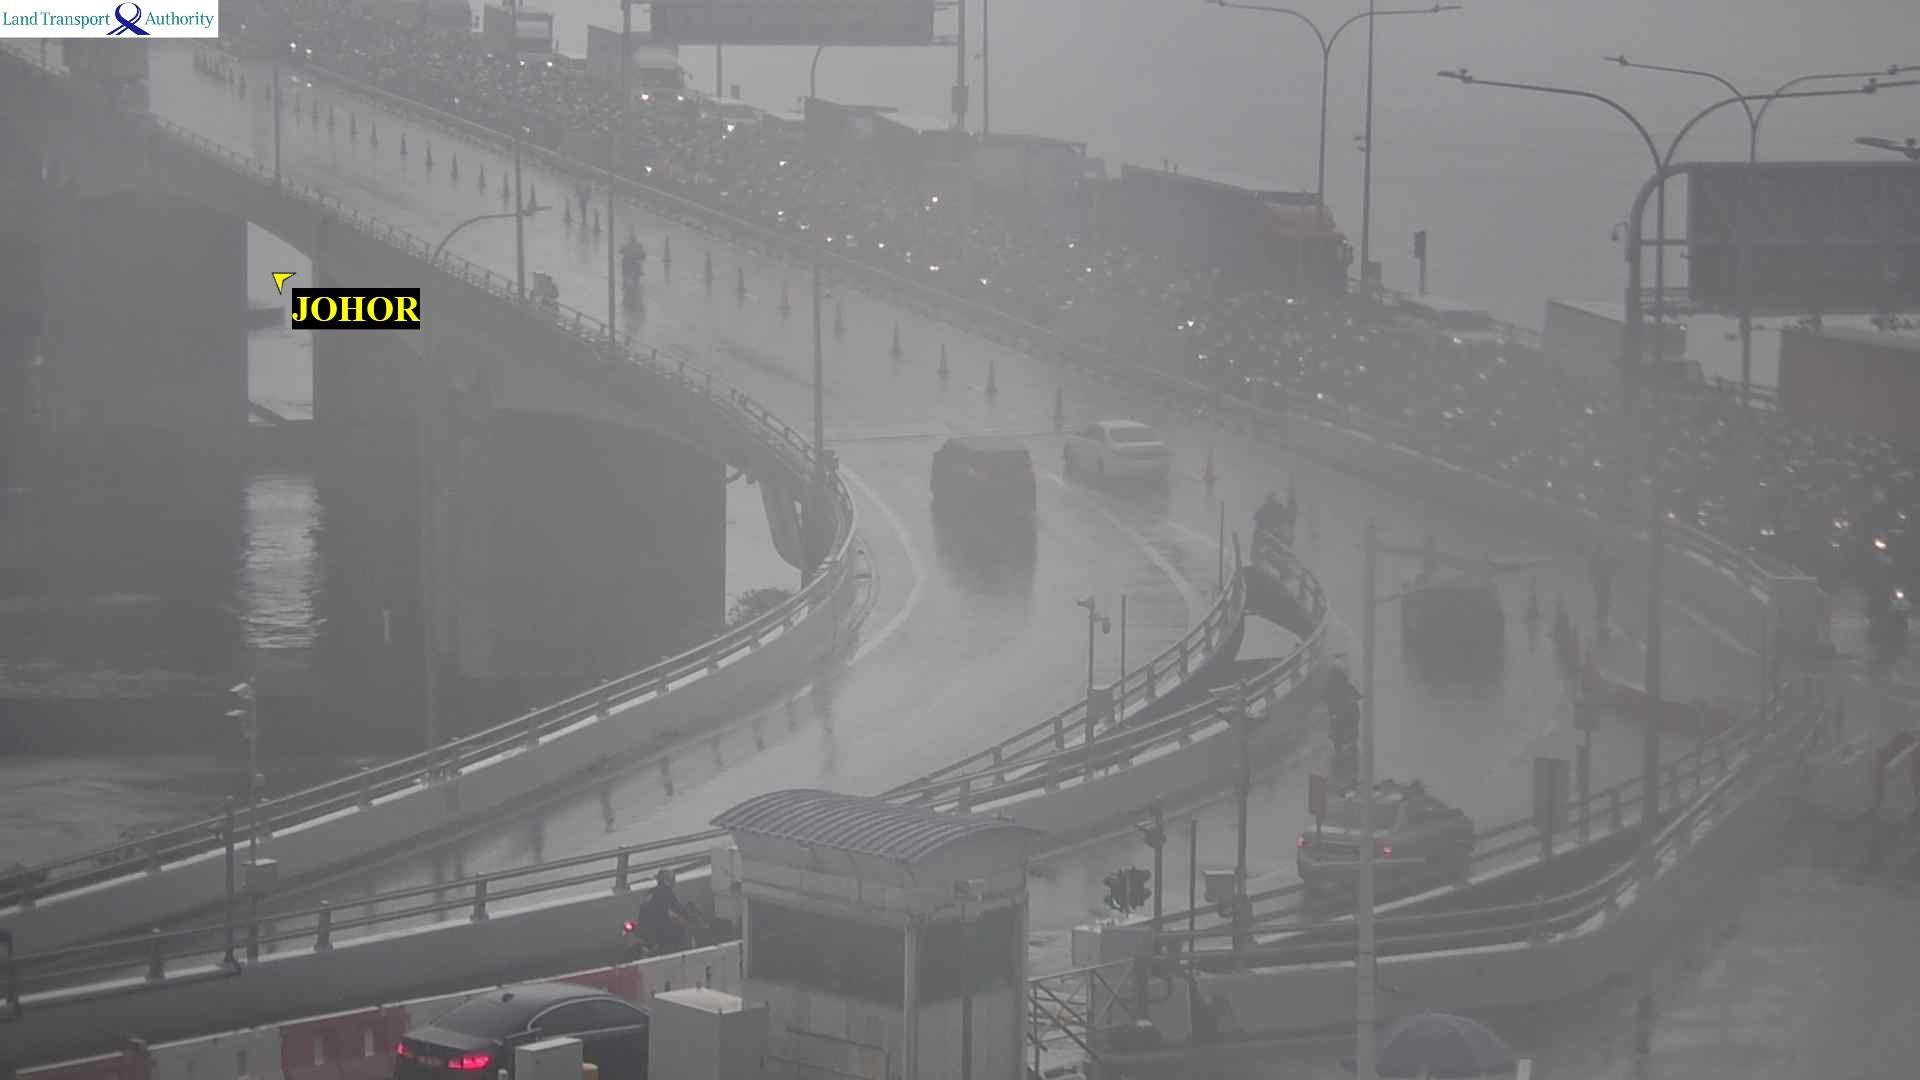vehicle-secondlink-johor: (396, 984, 647, 1080), (1296, 785, 1476, 885), (1402, 587, 1502, 700), (930, 431, 1035, 524), (624, 870, 712, 956), (1065, 417, 1170, 481), (1325, 655, 1358, 754), (621, 235, 644, 282)
vehicle-secondlink-singapore: (1122, 161, 1348, 297), (1547, 298, 1705, 421), (1783, 327, 1920, 439), (589, 26, 684, 109), (1398, 297, 1503, 355), (485, 5, 553, 67), (702, 98, 758, 135)
